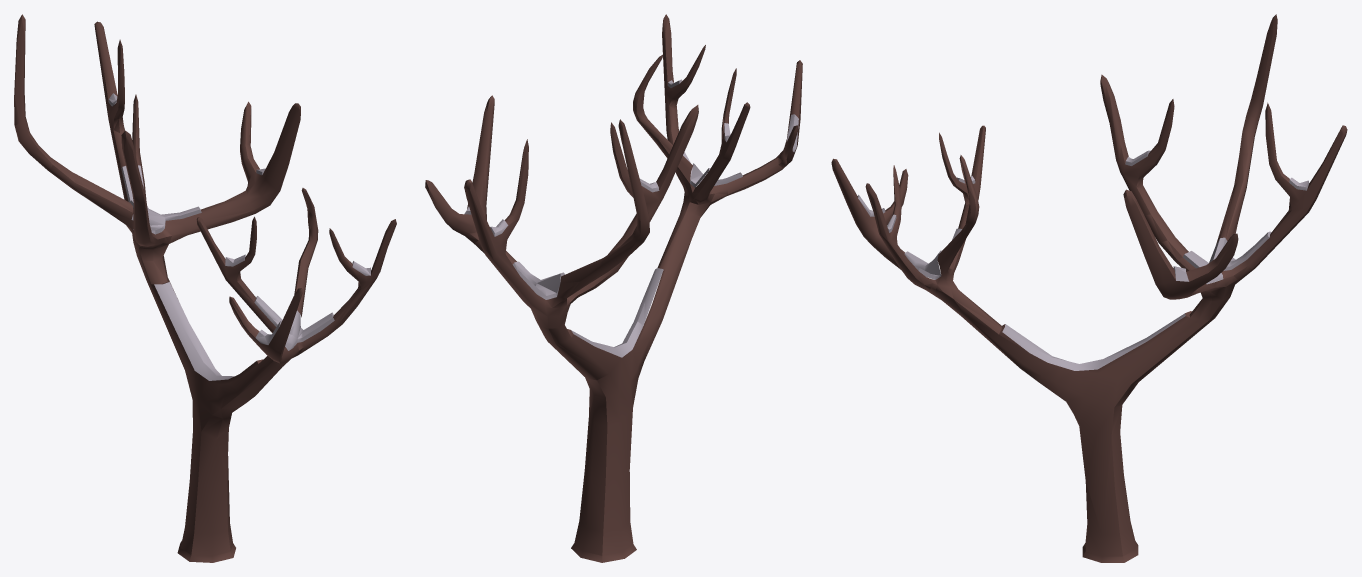
Rendered from tree_dead_snow_1.glb.
3 renders of one model, left to right at view 1: azimuth 30°, elevation 25°; view 2: azimuth 150°, elevation 25°; view 3: azimuth 270°, elevation 25°, orthographic. The views are drawn at different scales.
Visible parts, largest first — view 1: tree_dead_snow_1; view 2: tree_dead_snow_1; view 3: tree_dead_snow_1.
Part boxes in pixels (<box>): tree_dead_snow_1: <box>14,14,396,562</box>; tree_dead_snow_1: <box>425,14,802,562</box>; tree_dead_snow_1: <box>831,14,1347,562</box>.
Bounding box in the file's own units: 2.59 × 5.49 × 5.25.
